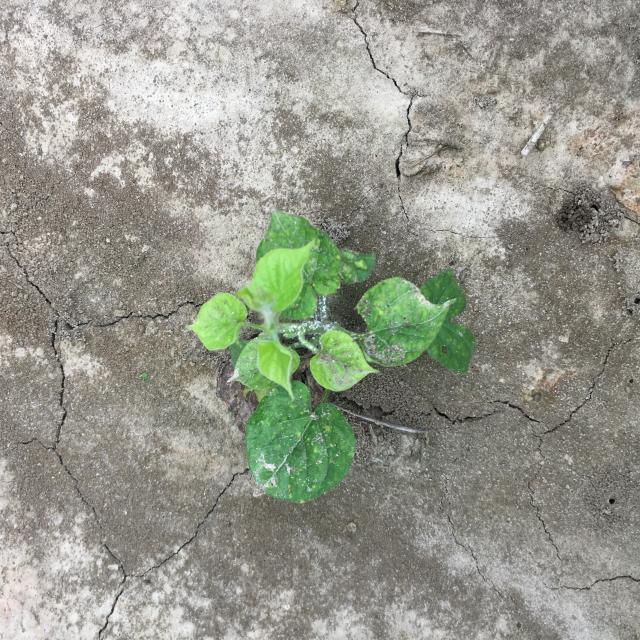MorningGlory: (186, 208, 475, 504)
